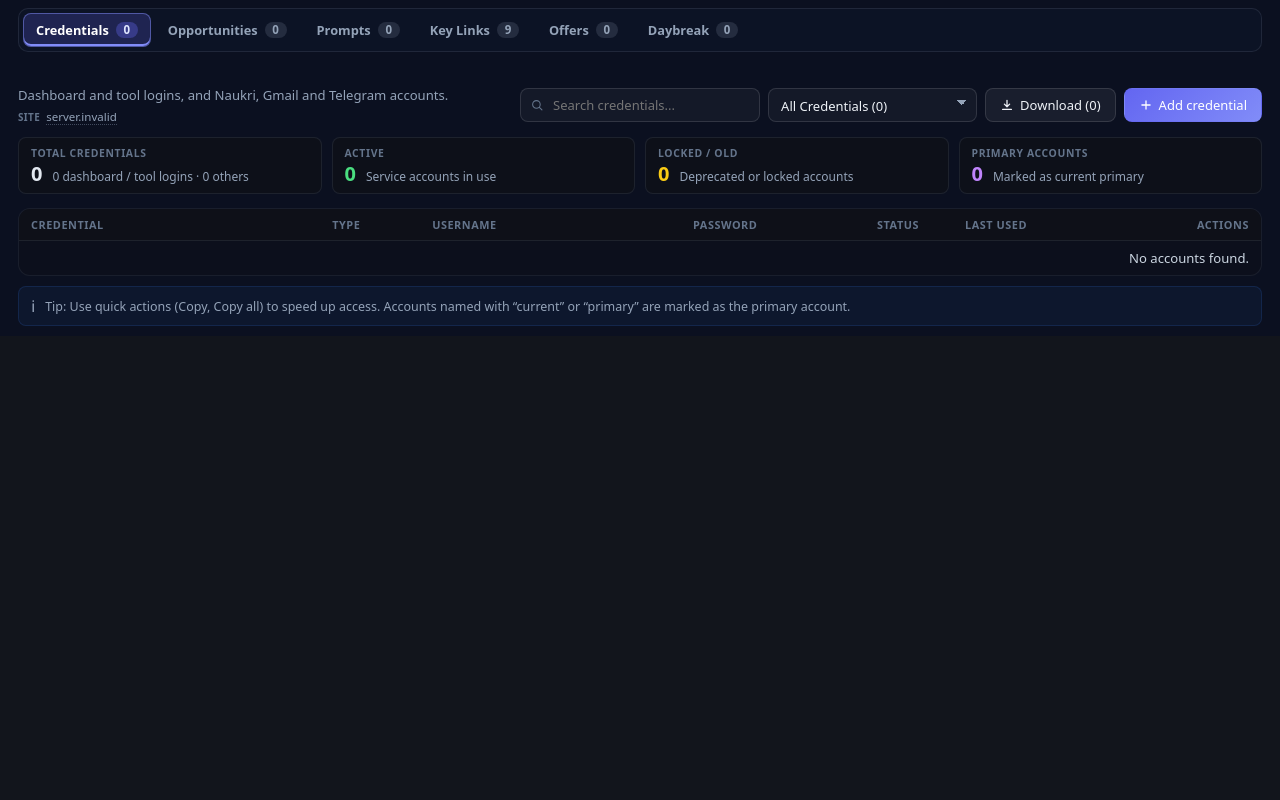
Test: the Key Links tab in the Data Room › lists all nine links once the tab is opened
This screenshot has width=1280, height=800.
expect the text with class "dr-tab-count" reads "9": met, box [505,22,511,37]
Click the button "Key Links 9": (474, 30) [417,13,532,47]
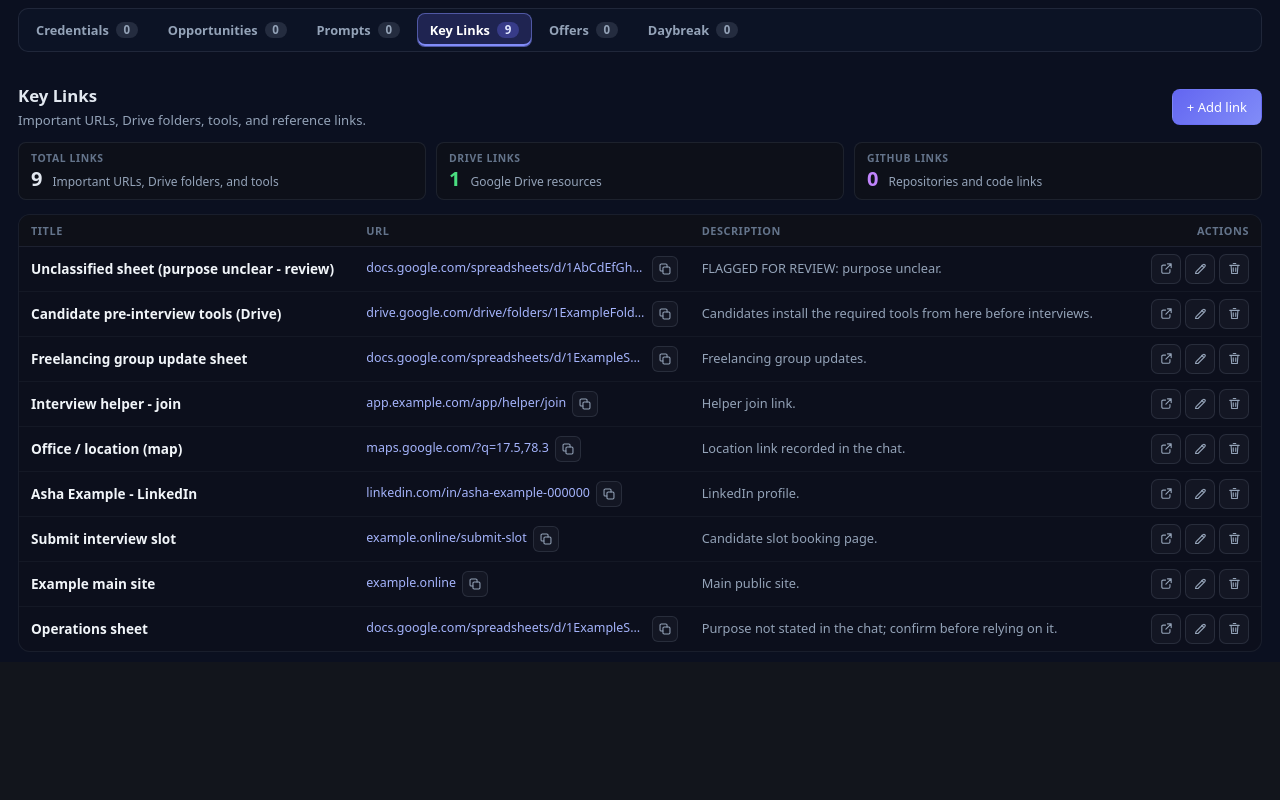
expect the text "Unclassified sheet (purpose unclear - review)" is shown: met, box [31,260,342,278]
expect the number of rows with class "dr-kl-row" is 9: met
